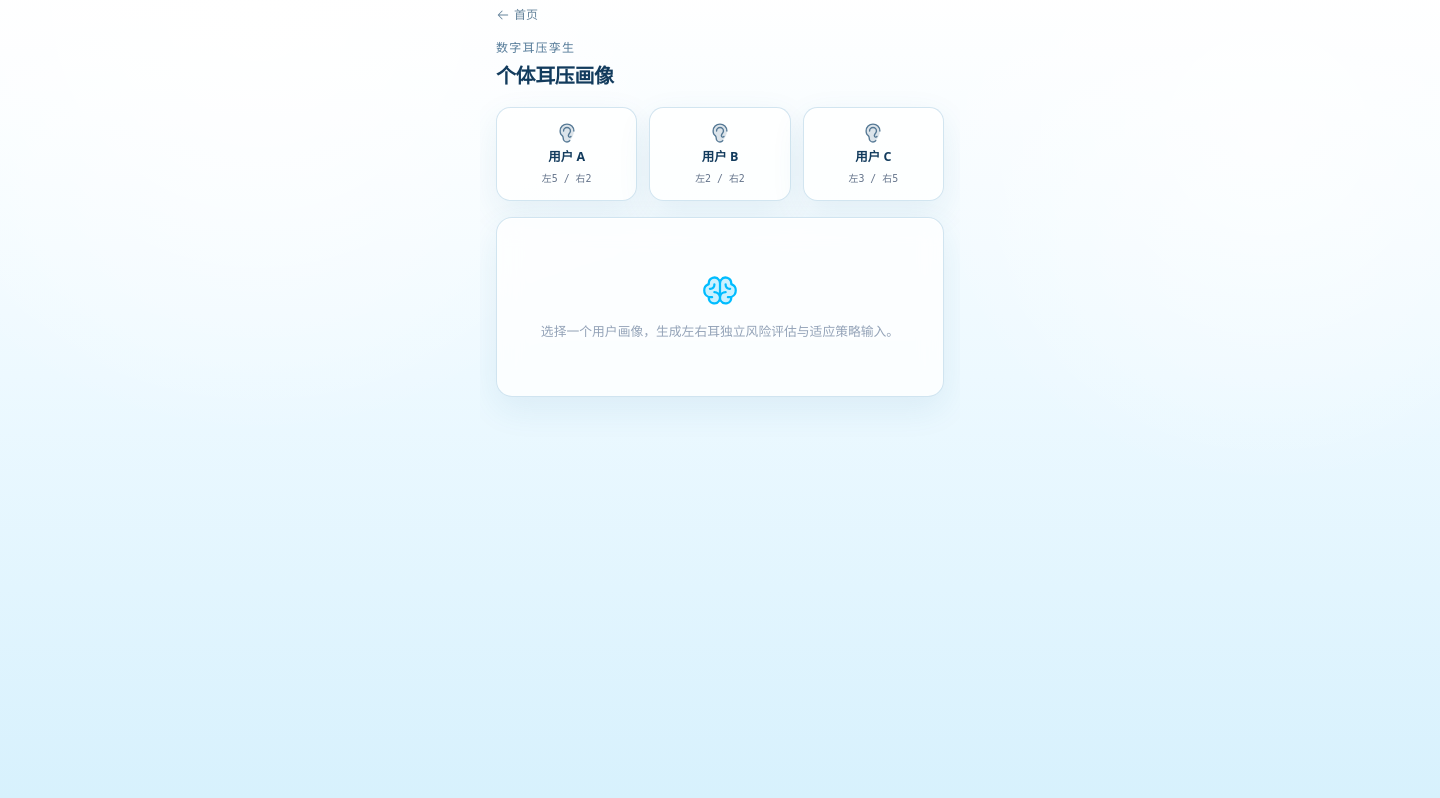
Scenario: loads a seed profile and exposes the next flight step
Click the button "用户 A 左5 / 右2": (567, 154) [496,107,637,201]
(page scrolled)
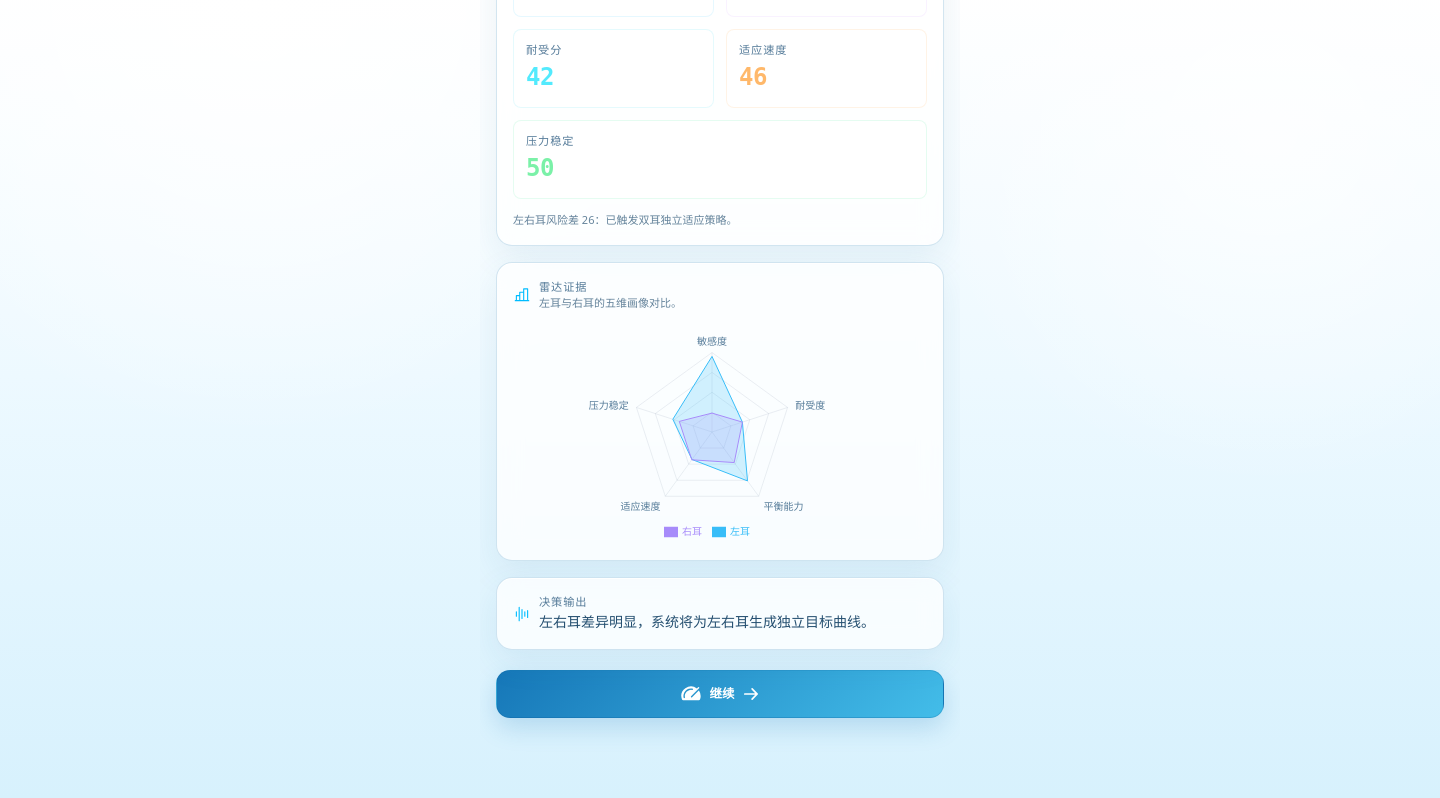
Check: the text "左右耳差异明显，系统将为左右耳生成独立目标曲线。" is shown, box [539,611,875,633]
